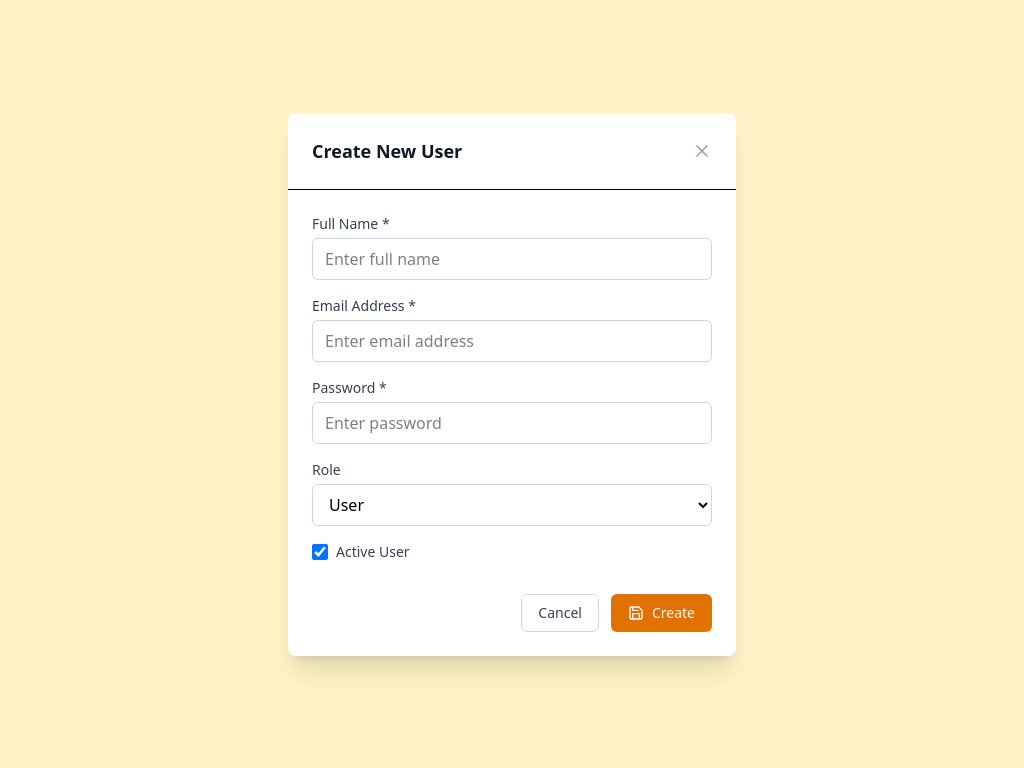
UserForm Component › validates password length for new user
The width and height of the screenshot is (1024, 768).
Type "Test User" into the field with placeholder "Enter full name".
click(512, 258); type("Test User")  # box [312,238,712,280]
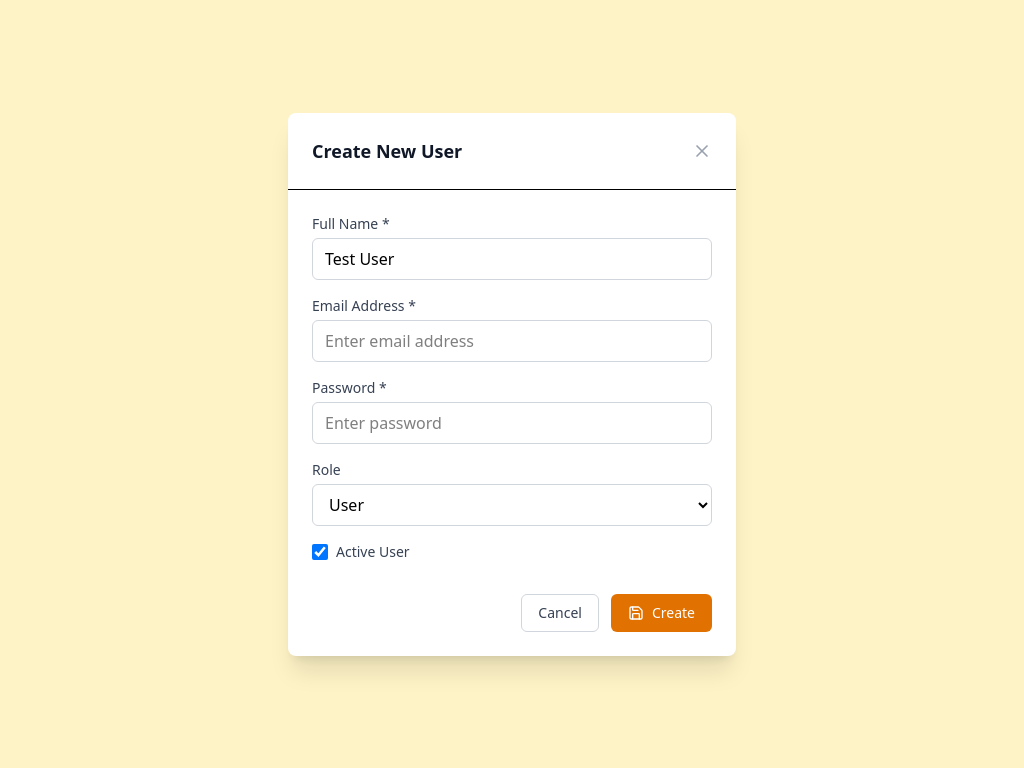
Type "test@example.com" into the field with placeholder "Enter email address".
click(512, 340); type("test@example.com")  # box [312,320,712,362]
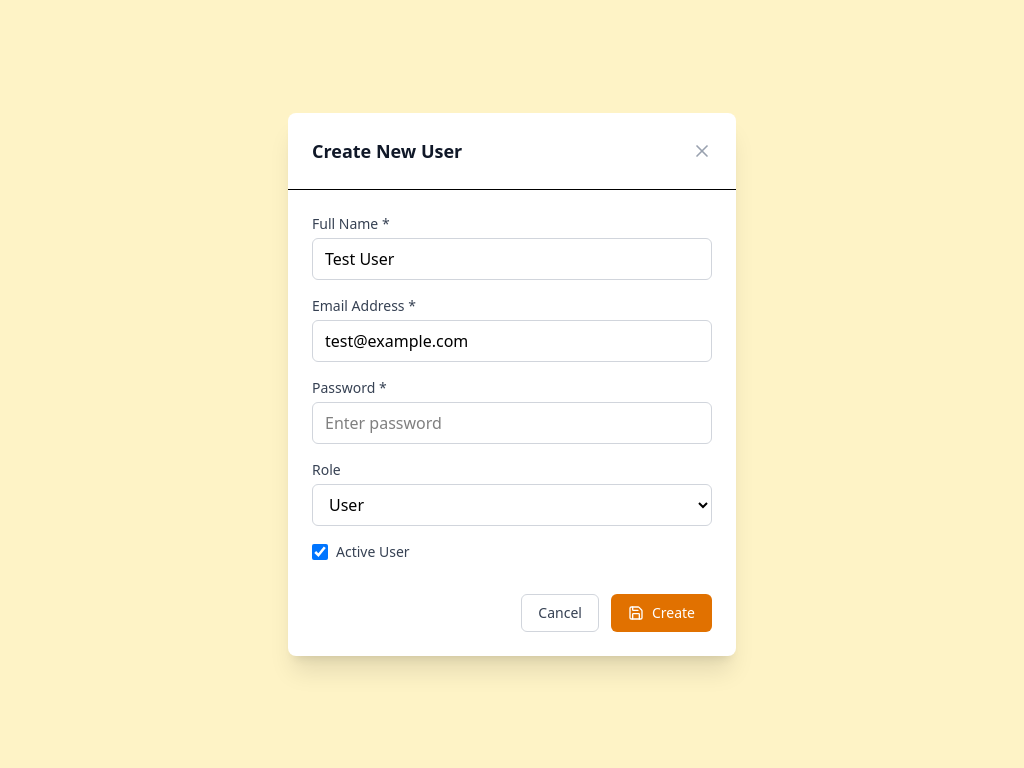
Type "123" into the password field with placeholder "Enter password".
click(512, 422); type("123")  # box [312,402,712,444]
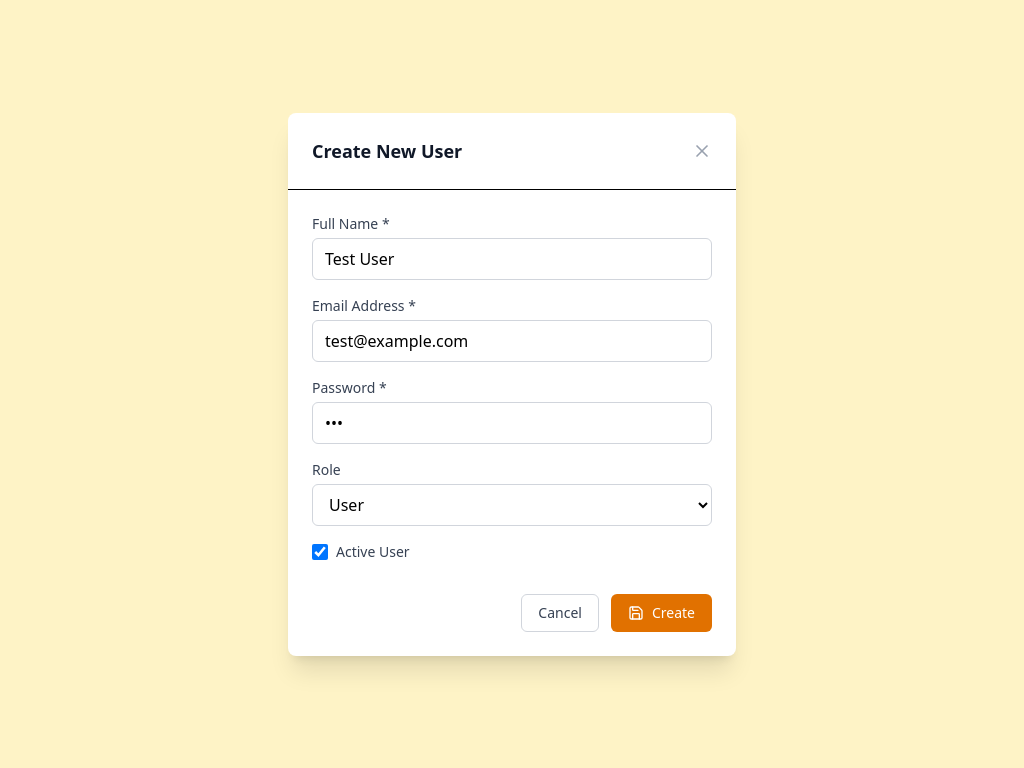
Click the button "Create".
click(661, 612)  # box [611,594,712,632]
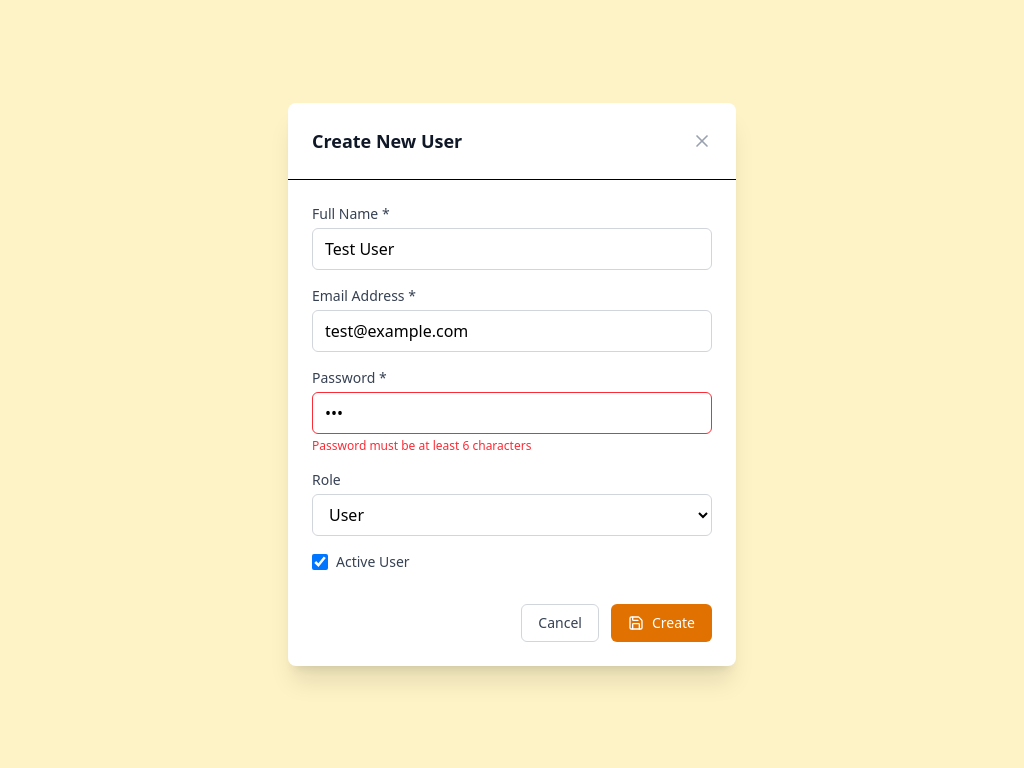
Check: the text "Password must be at least 6 characters" is shown, box [312,436,531,454]
